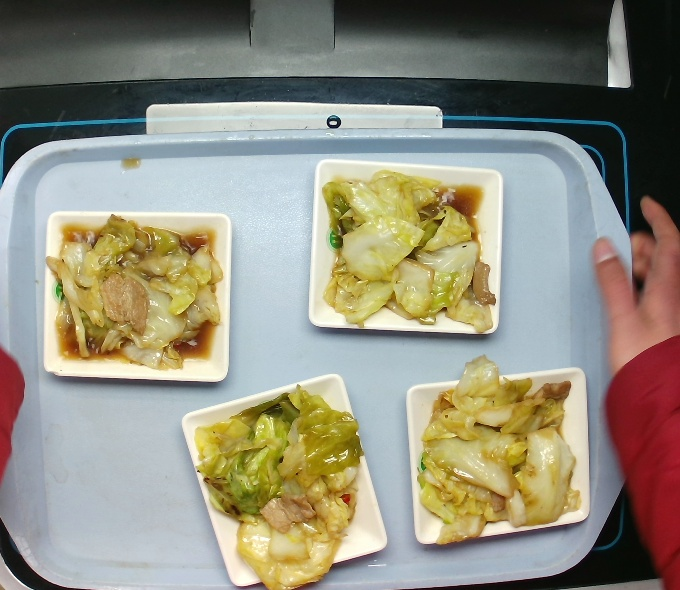wcq-JuanXinCaiChaoRou: (186, 381, 376, 590), (407, 350, 591, 549), (308, 160, 507, 337), (49, 215, 233, 379)
